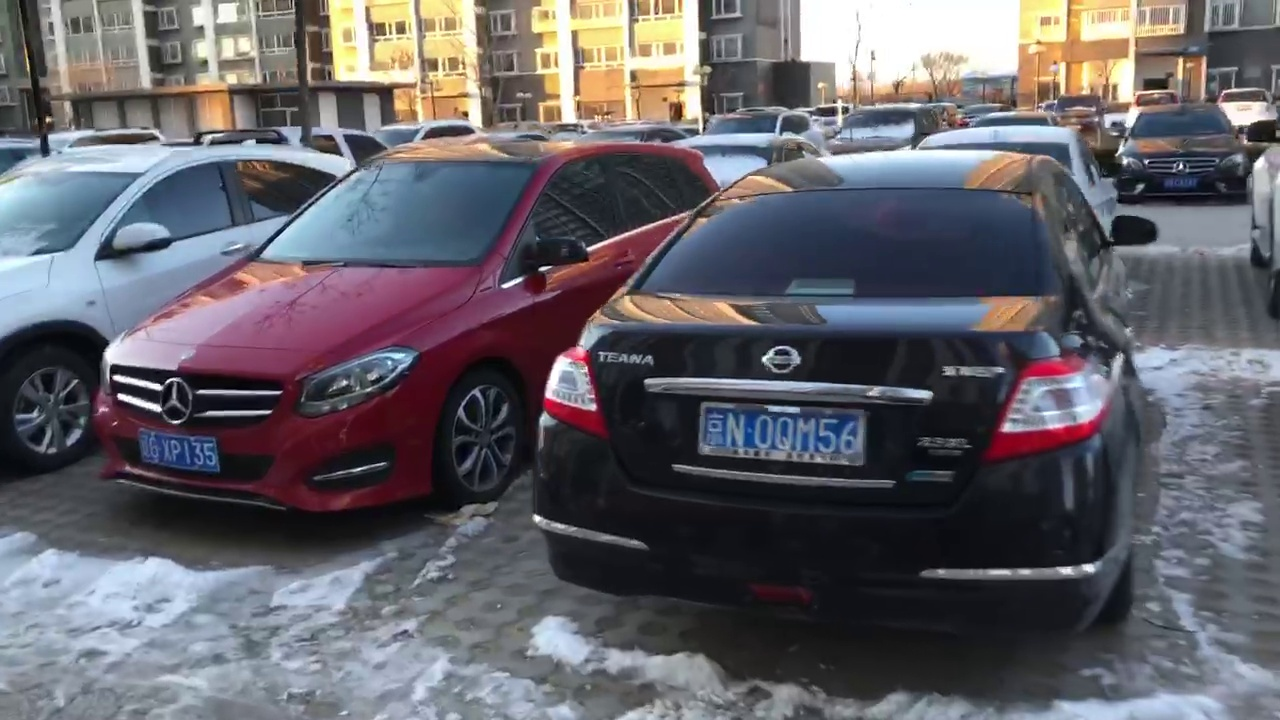plate: (697, 402, 871, 466), (134, 432, 223, 475)
